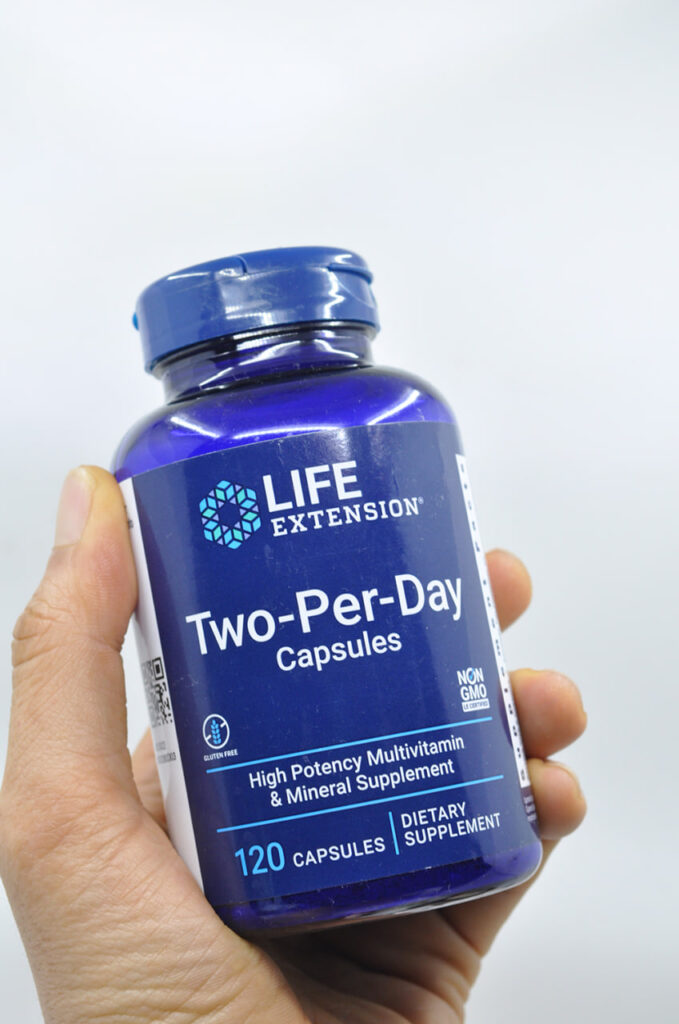supplement_label: (109, 412, 549, 924)
